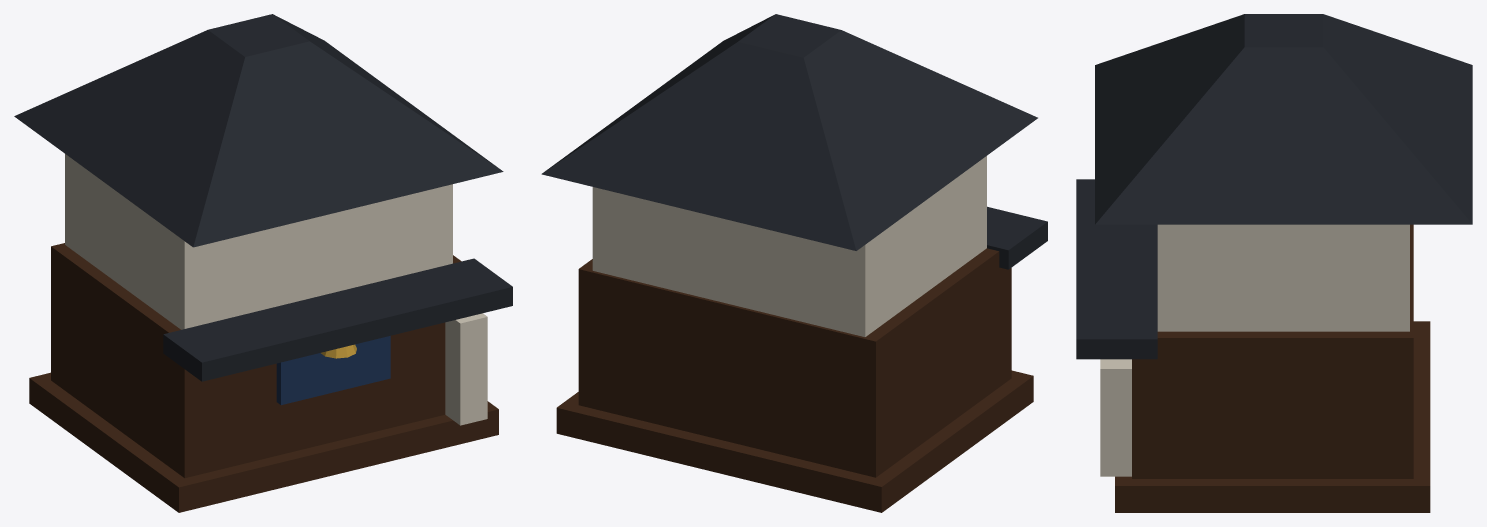
The model's file is suzunaan.glb.
3 views of the same model, side by side, from view 1: azimuth 30°, elevation 25°; view 2: azimuth 150°, elevation 25°; view 3: azimuth 270°, elevation 25° (orthographic). The views are drawn at different scales.
Visible parts, largest first — view 1: suzunaan_Opaque; view 2: suzunaan_Opaque; view 3: suzunaan_Opaque.
Part boxes in pixels (x1,y1,x2,y2): suzunaan_Opaque: [14, 14, 512, 512]; suzunaan_Opaque: [541, 14, 1047, 512]; suzunaan_Opaque: [1076, 14, 1472, 512].
Size of the model in its own units: 10.5 by 11.9 by 10.69.
